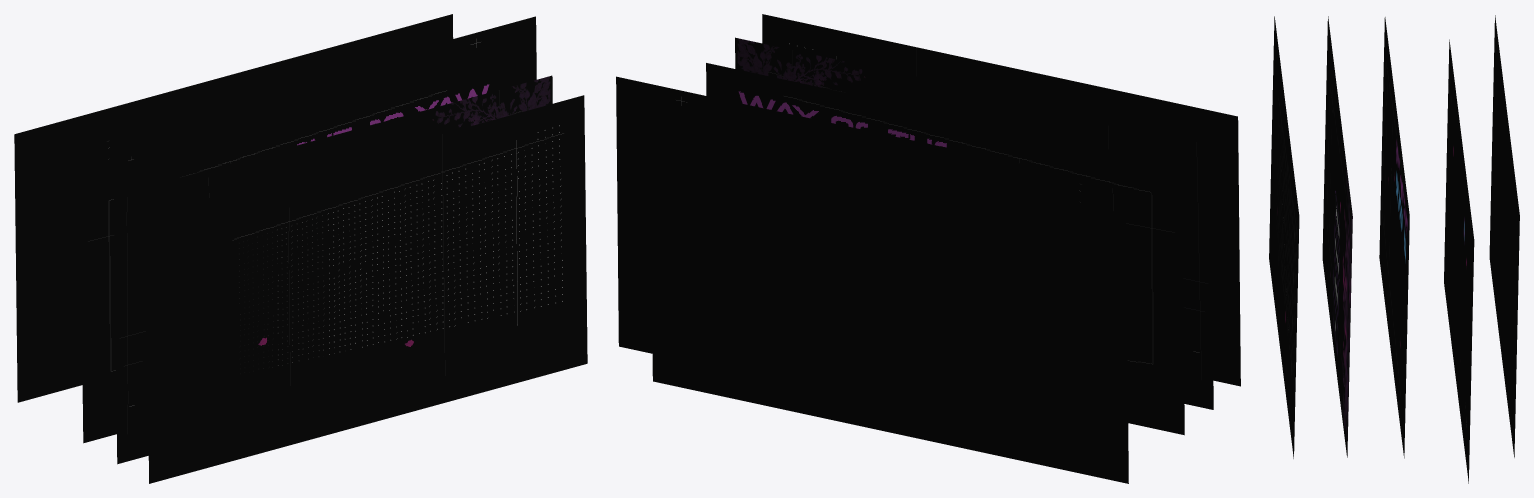
Rendered from WotW_title_3D.glb.
3 renders of one model, left to right at view 1: azimuth 30°, elevation 25°; view 2: azimuth 150°, elevation 25°; view 3: azimuth 270°, elevation 25°, orthographic. The views are drawn at different scales.
Parts seen in each view (by area): view 1: plane, plane.004, plane.002, plane.001, plane.003; view 2: plane.004, plane.002, plane.001, plane.003, plane; view 3: plane.002, plane.001, plane.004, plane, plane.003.
Part boxes in pixels (x1,y1,x2,y2): plane: [146, 95, 587, 483]; plane.004: [14, 14, 453, 402]; plane.002: [80, 54, 518, 443]; plane.001: [114, 75, 552, 464]; plane.003: [97, 16, 536, 169]; plane.004: [650, 111, 1128, 483]; plane.002: [706, 63, 1184, 435]; plane.001: [735, 37, 1213, 409]; plane.003: [616, 76, 1092, 353]; plane: [762, 14, 1240, 386]; plane.002: [1379, 17, 1409, 458]; plane.001: [1322, 16, 1352, 457]; plane.004: [1489, 15, 1519, 457]; plane: [1269, 16, 1299, 458]; plane.003: [1444, 39, 1474, 483].
Bounding box in the file's own units: 15.23 × 7.72 × 7.09.
1 material, 1 textured.
